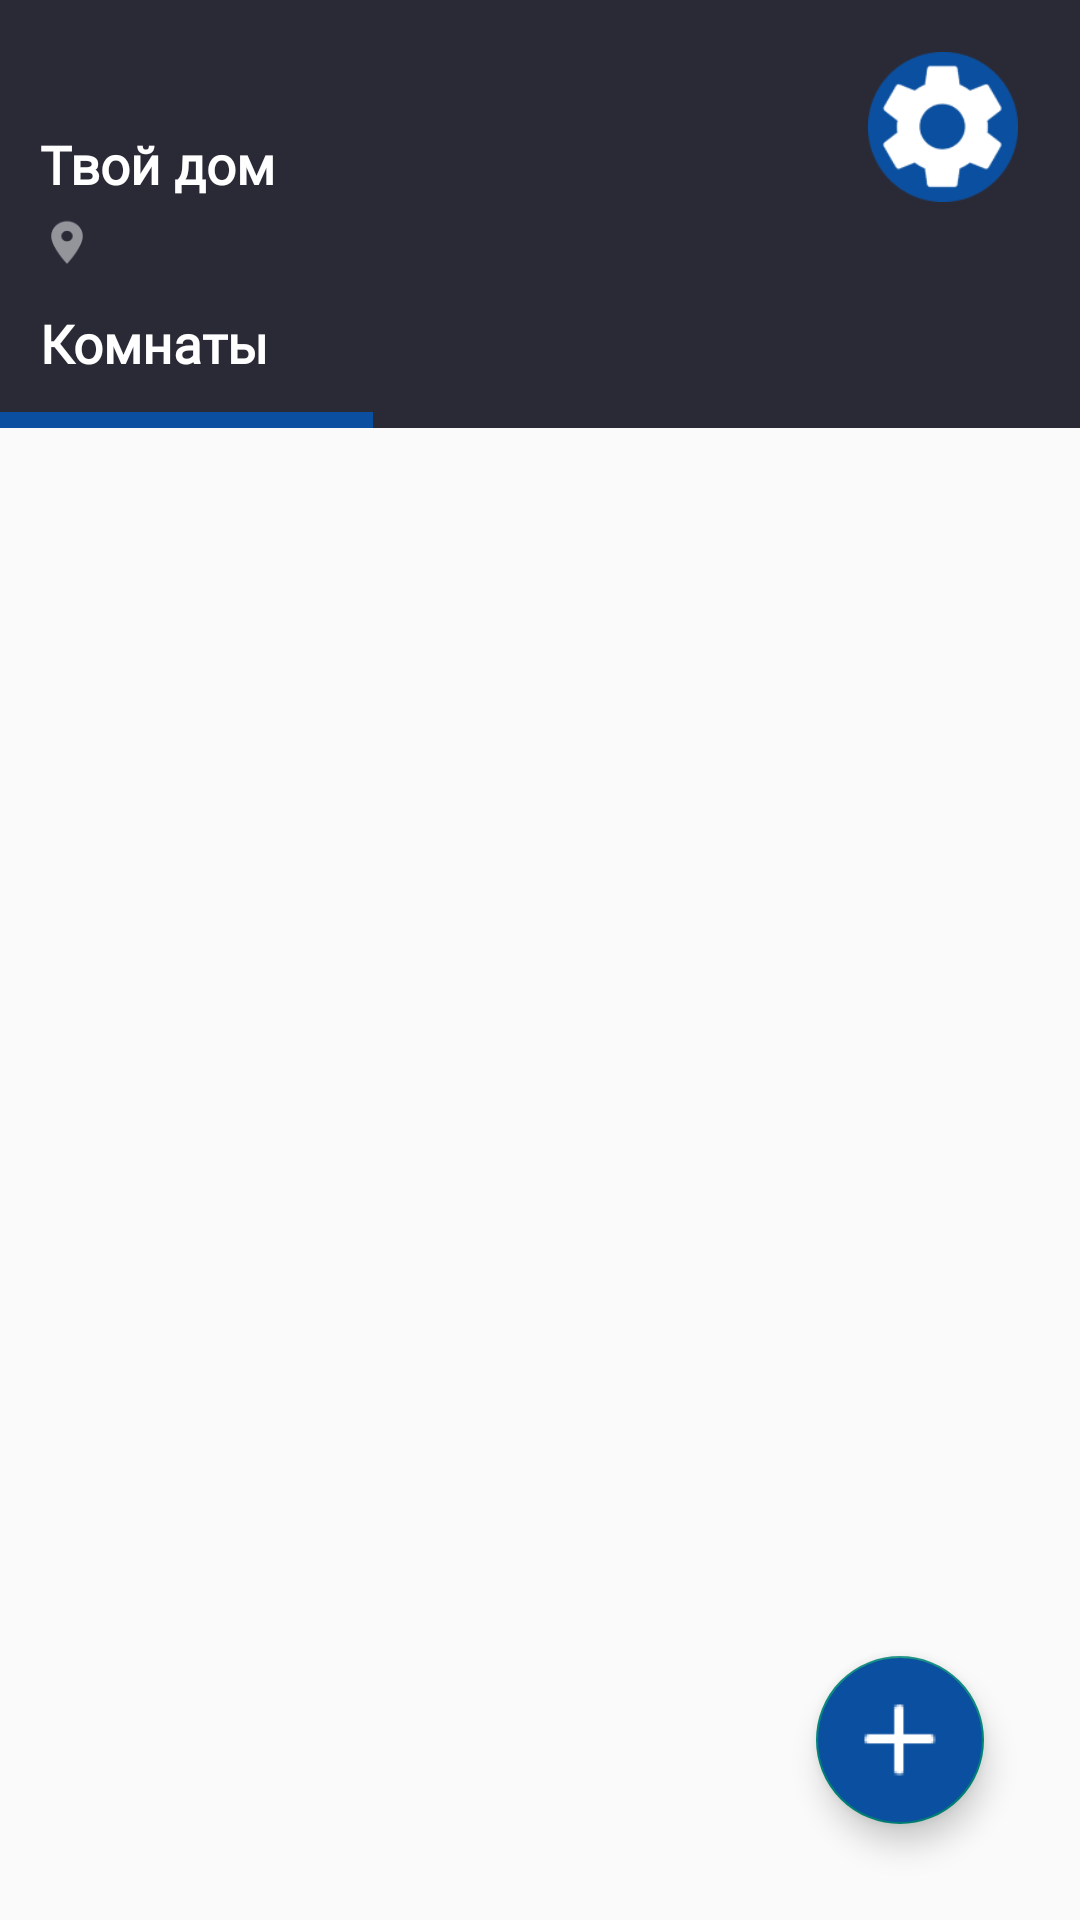

Icon bounding boxes for this 1080*1920 phone screenshot, format (x1, y1, x2, y2):
plus: (816, 1656, 984, 1824)
